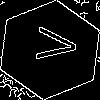V: (25, 25, 79, 64)
